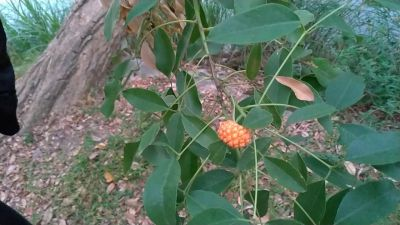eggs: (213, 118, 251, 148)
